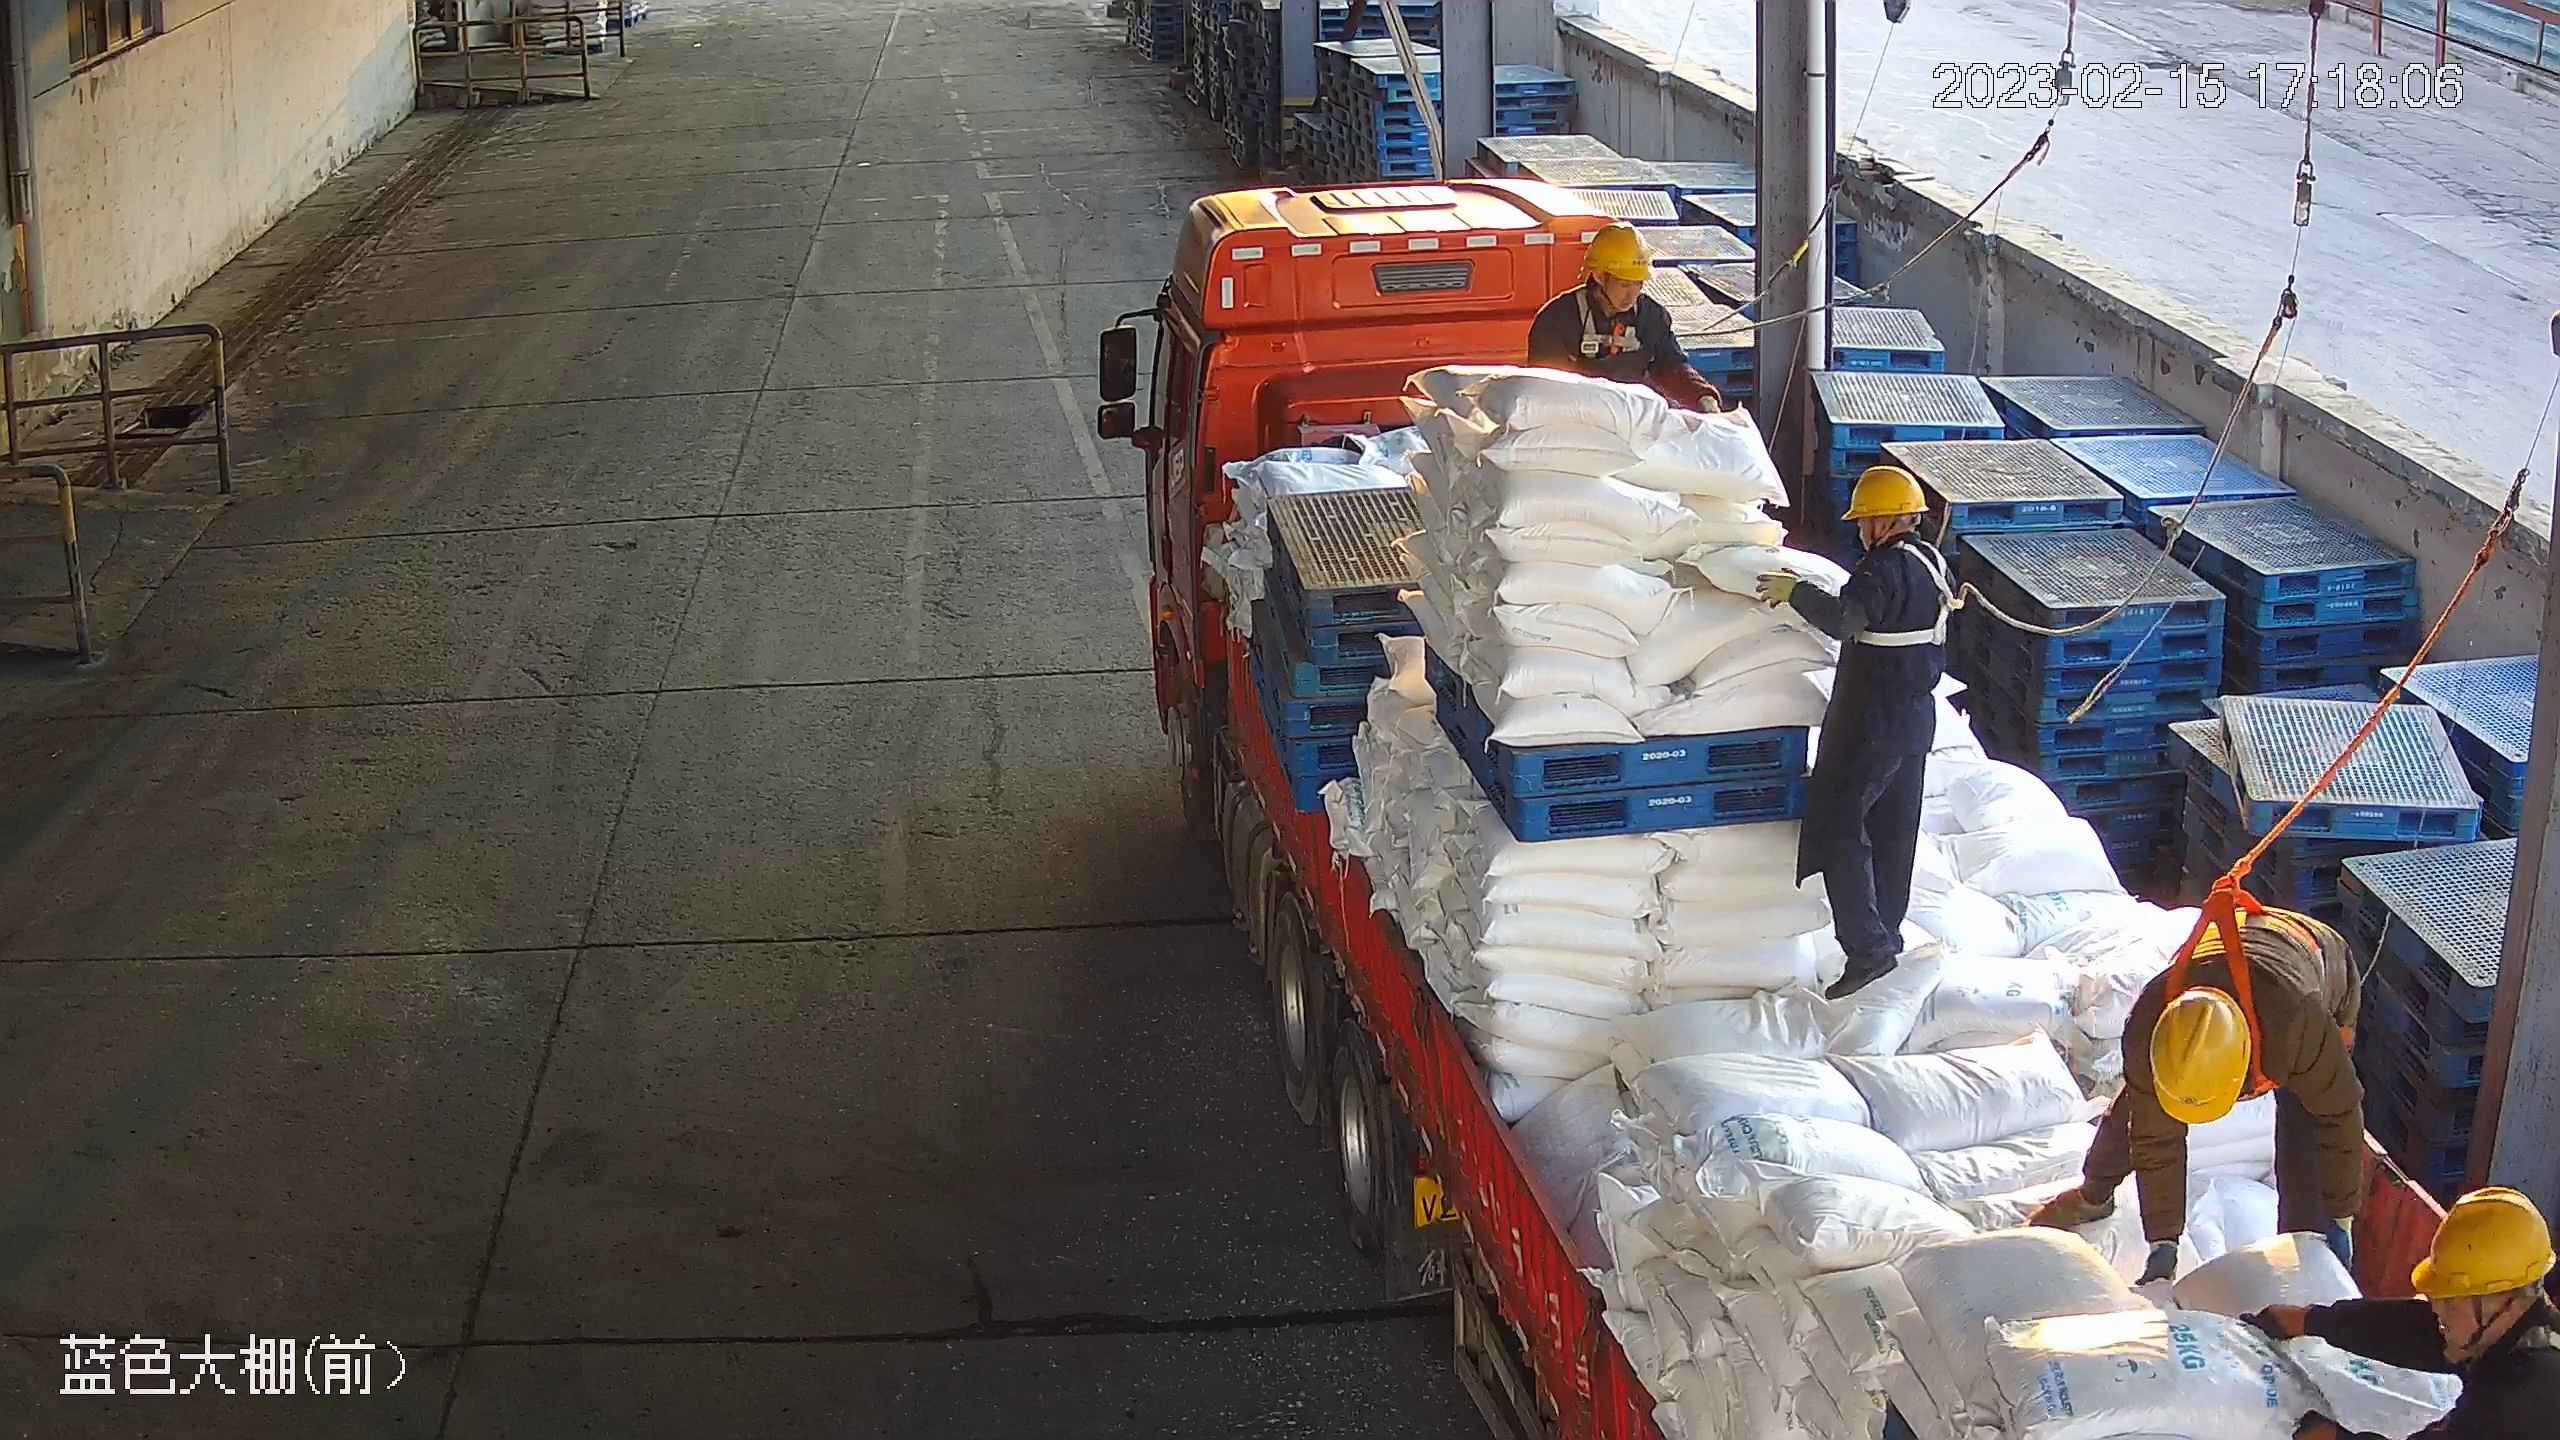belt: (2155, 873, 2259, 1030), (1849, 538, 1968, 645), (1559, 282, 1640, 356), (2498, 1319, 2560, 1373)
head: (2361, 1191, 2560, 1436), (2131, 949, 2309, 1149), (1783, 475, 1968, 627), (1531, 216, 1677, 351)
helmet: (2401, 1179, 2546, 1301), (2140, 984, 2257, 1129), (1842, 454, 1944, 523), (1585, 223, 1657, 290)
people: (2022, 879, 2379, 1258), (1777, 469, 1955, 999)
truck: (1094, 177, 2560, 1440)
